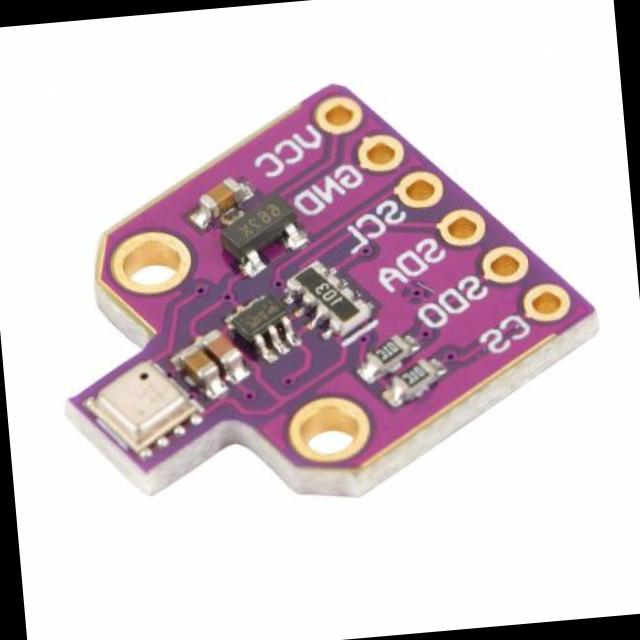IC: (226, 286, 301, 352)
capacitor: (170, 341, 218, 402), (196, 177, 246, 219), (198, 324, 238, 371)
resistor: (291, 256, 368, 338), (388, 352, 440, 408), (359, 334, 408, 374)
transistor: (218, 182, 310, 272)
